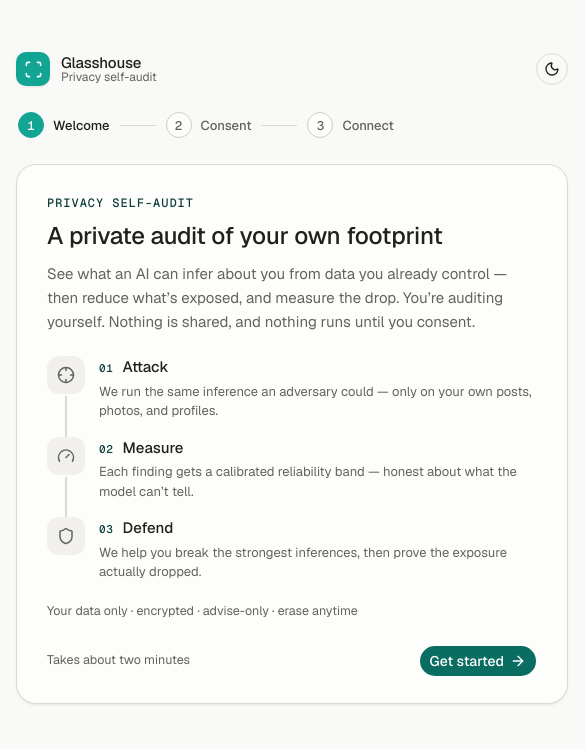
Test case: OnboardingWizard › live grant: shows 'Consent recorded' with the backend's grant time
The width and height of the screenshot is (585, 749).
Click the button "Get started" at (478, 661), box [419, 645, 537, 677]
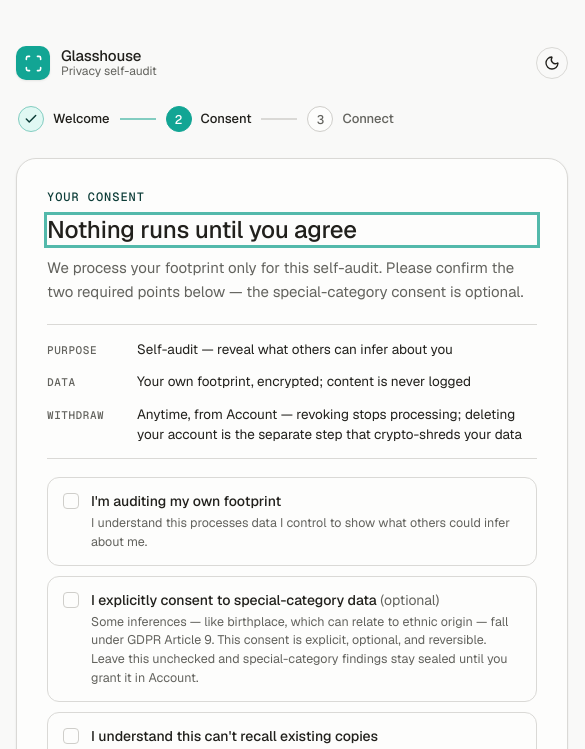
Click the checkbox named "auditing my own footprint" next to "I'm auditing my own footprint" at (71, 501), box [63, 493, 79, 509]
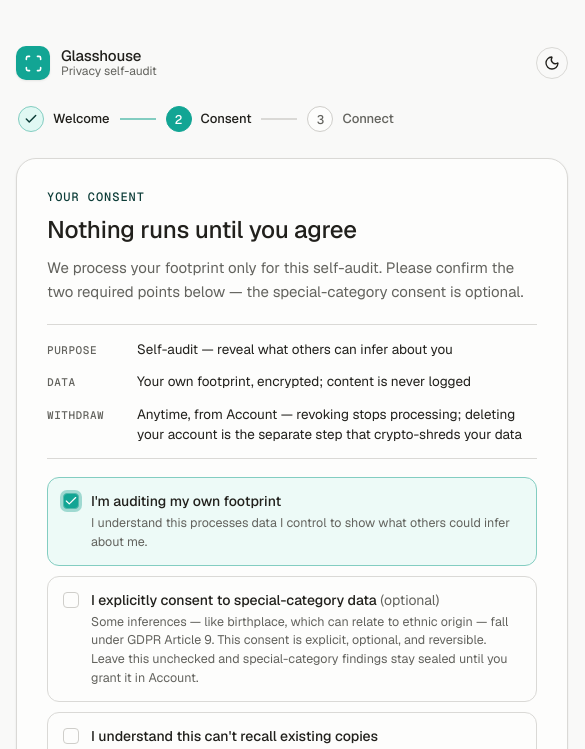
Click the 3rd checkbox named "can't recall existing copies" at (71, 736), box [63, 728, 79, 744]
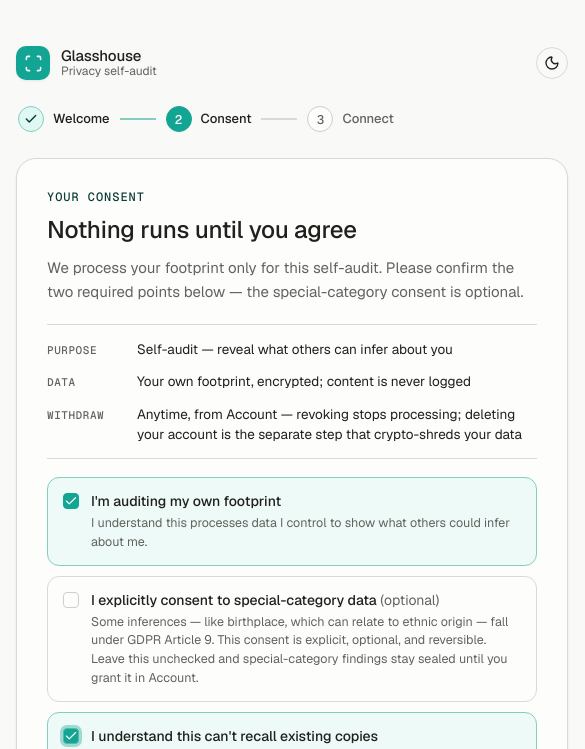
Click the checkbox named "special-category data" in the row of "(optional)" at (71, 600), box [63, 592, 79, 608]
(page scrolled)
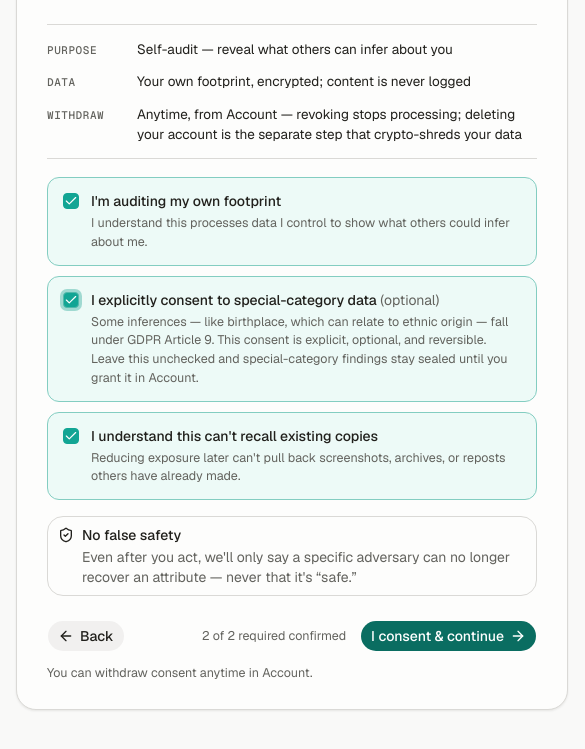
Click the button "I consent & continue" at (449, 636), box [360, 620, 537, 652]
(page scrolled)
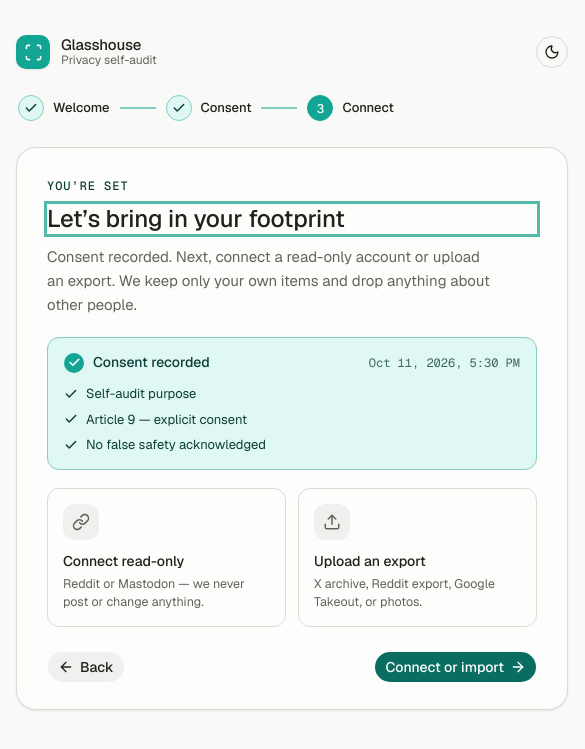
Now the text "Consent recorded" is shown, box [93, 352, 210, 373]
Now the list item "Article 9 — explicit consent" is shown, box [64, 410, 247, 428]
